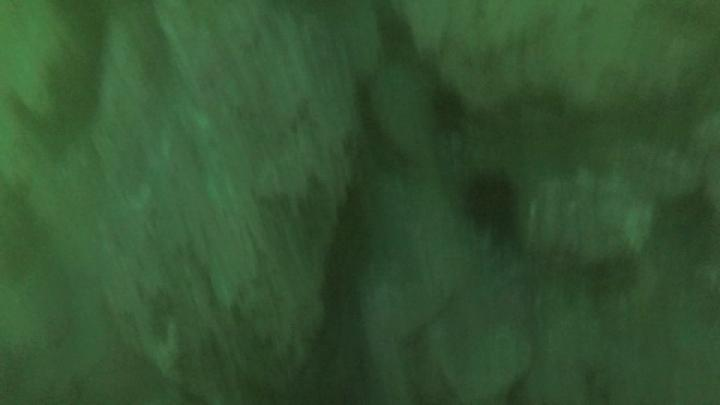echinus: (464, 174, 517, 240), (433, 87, 465, 132)
